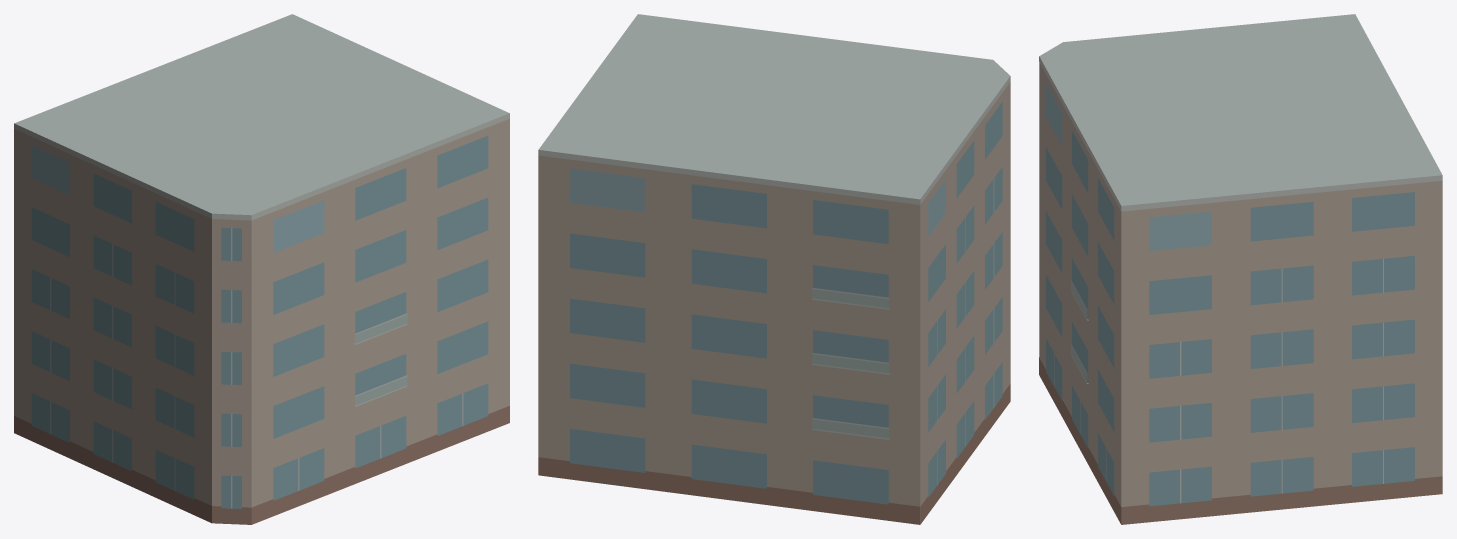
File: survey-upis-32710405.glb
3 views of the same model, side by side, from view 1: azimuth 30°, elevation 25°; view 2: azimuth 150°, elevation 25°; view 3: azimuth 270°, elevation 25° (orthographic). The views are drawn at different scales.
Visible parts, largest first — view 1: survey-upis-32710405.tmp; view 2: survey-upis-32710405.tmp; view 3: survey-upis-32710405.tmp.
Boxes of the visible parts, x1,y1,x2,y2 form: survey-upis-32710405.tmp: (14,14,509,524); survey-upis-32710405.tmp: (538,14,1010,524); survey-upis-32710405.tmp: (1039,14,1442,524).
Bounding box in the file's own units: 18.22 × 14.1 × 16.18.
